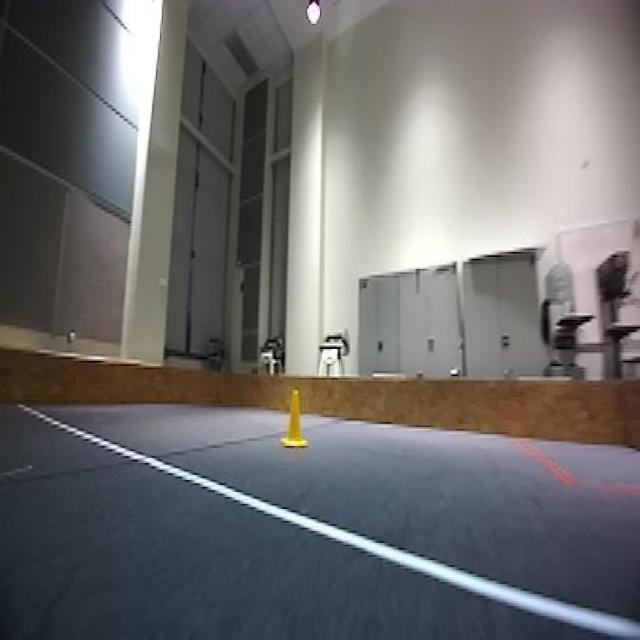frc_cone: (282, 386, 309, 448)
